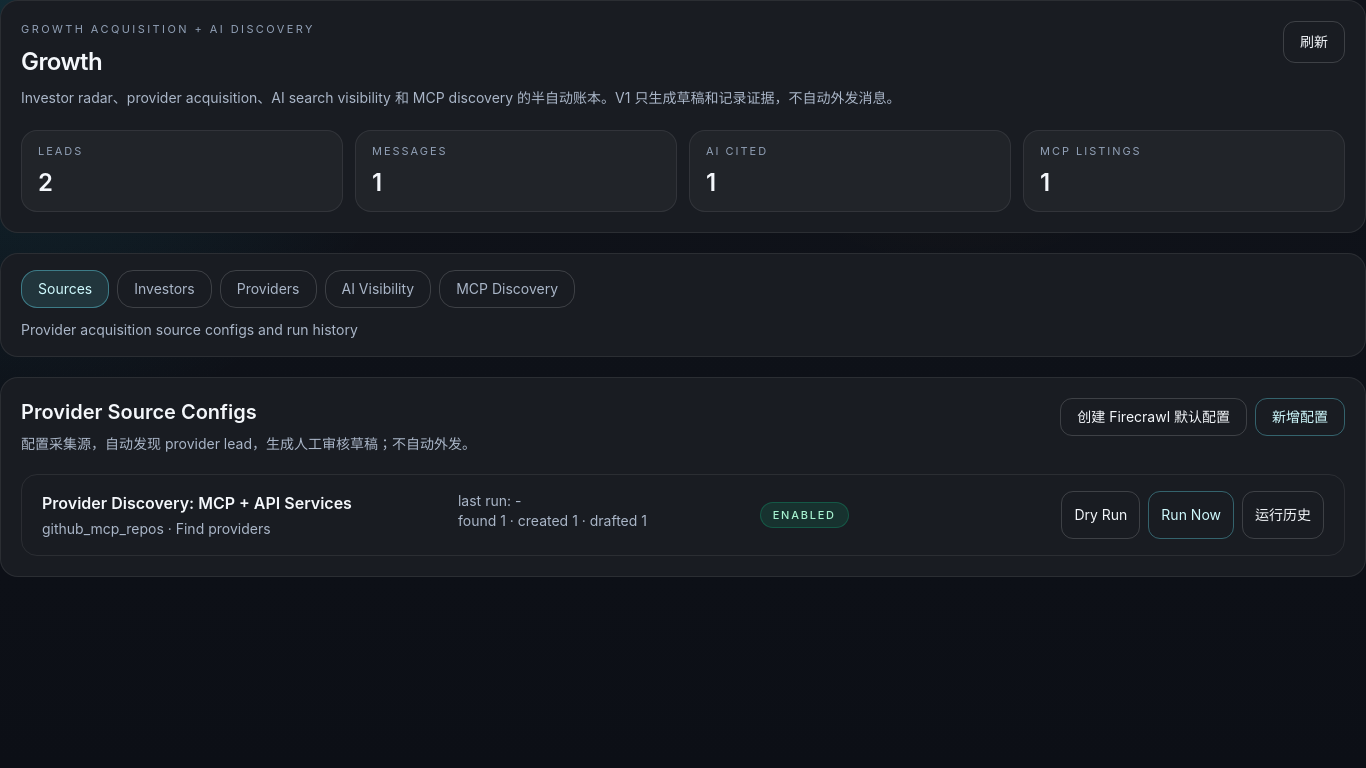
Test: GrowthPage › renders source configs and can run provider acquisition
The image size is (1366, 768).
Expected: the heading "Provider Source Configs" is shown, x1=21 y1=400 x2=257 y2=424
Expected: the text "Provider Discovery: MCP + API Services" is shown, x1=42 y1=493 x2=352 y2=513
Click the button "Dry Run" at (1101, 515), box x1=1061 y1=491 x2=1140 y2=539
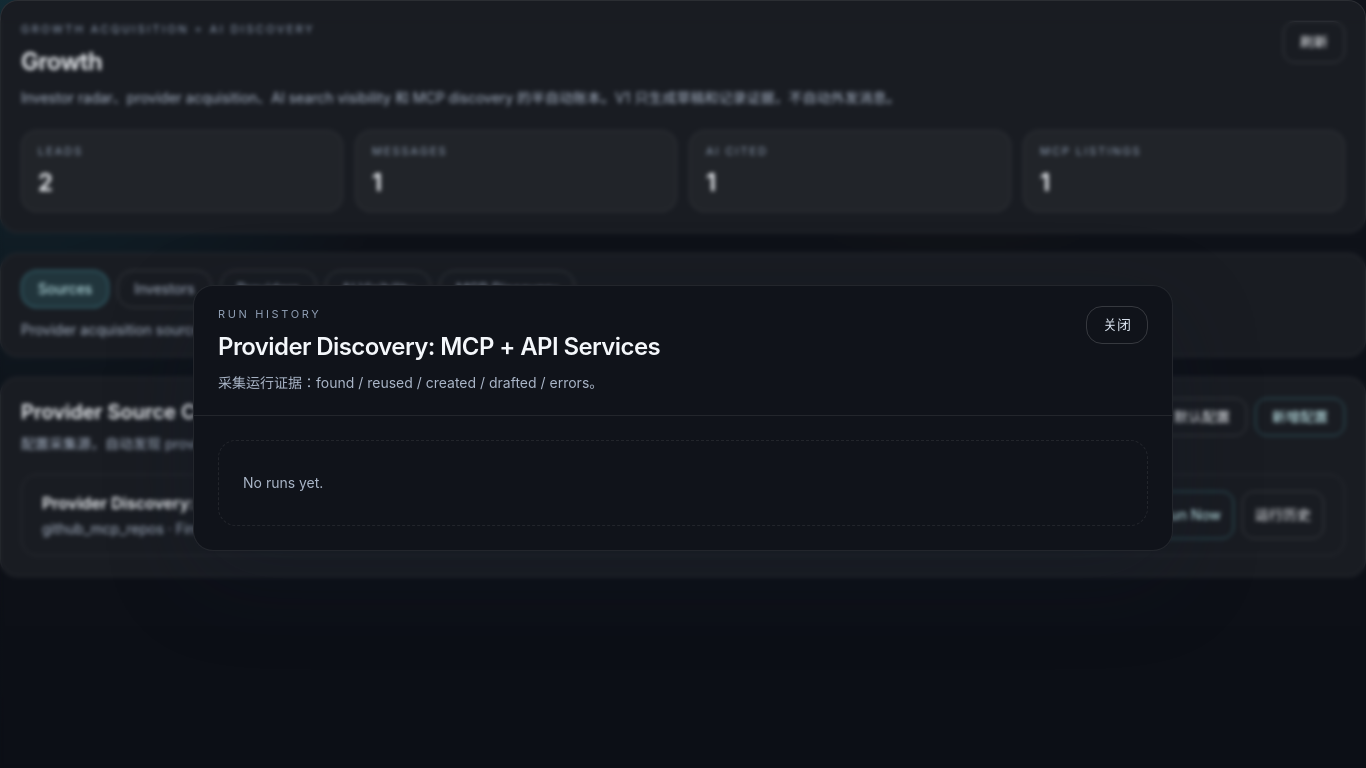
Expected: the dialog "Provider Discovery: MCP + API Services" is shown, x1=193 y1=285 x2=1173 y2=551
